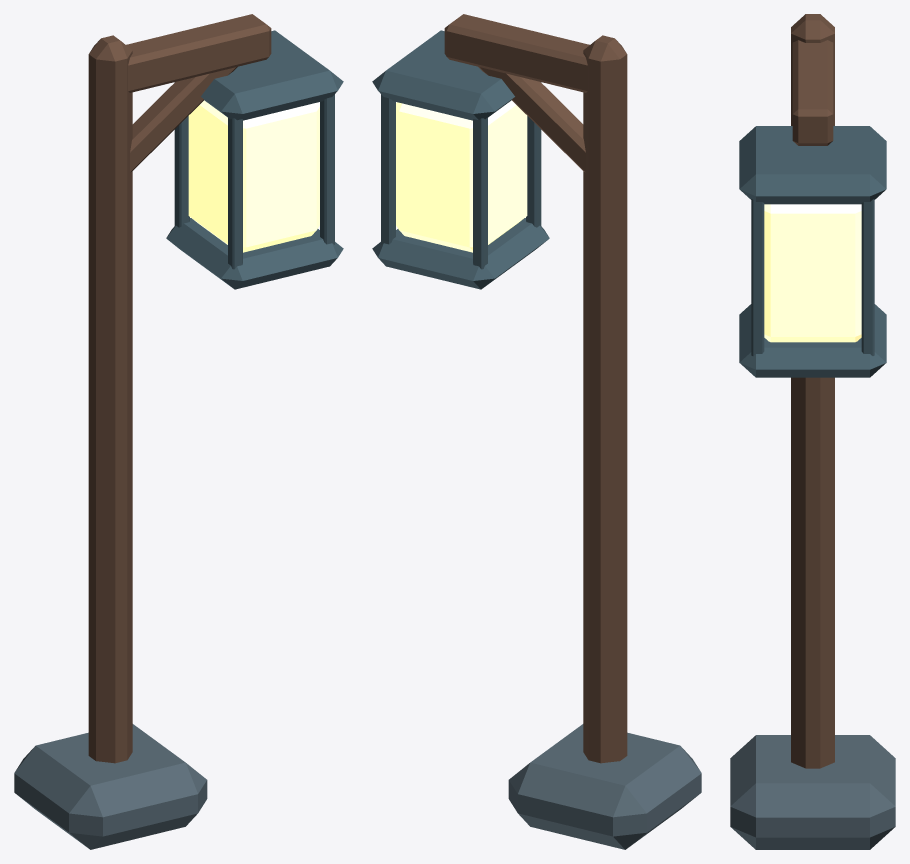
File: lamp.glb
The picture shows the model from 3 angles, left to right: view 1: azimuth 30°, elevation 25°; view 2: azimuth 150°, elevation 25°; view 3: azimuth 270°, elevation 25°; orthographic projection. The views are drawn at different scales.
Parts seen in each view (by area): view 1: lamp-post, lamp-base, lantern, lamp-arm, lantern-cap.001, lantern-cap, lamp-brace, lantern-frame, lantern-frame.002, lantern-frame.001; view 2: lamp-post, lamp-base, lantern, lamp-arm, lantern-cap.001, lantern-cap, lamp-brace, lantern-frame.001, lantern-frame.003, lantern-frame; view 3: lamp-post, lamp-base, lantern, lantern-cap.001, lantern-cap, lamp-arm, lantern-frame.002, lantern-frame.003.
Part boxes in pixels (x1,y1,x2,y2): lamp-post: (88,35,132,763); lamp-base: (14,724,207,849); lantern: (188,100,319,252); lamp-arm: (126,14,271,92); lantern-cap.001: (201,30,343,120); lantern-cap: (166,218,343,289); lamp-brace: (130,66,237,172); lantern-frame: (228,117,242,269); lantern-frame.002: (320,94,334,244); lantern-frame.001: (174,82,189,227); lamp-post: (583,35,627,763); lamp-base: (508,724,701,849); lantern: (396,100,527,252); lamp-arm: (444,14,589,92); lantern-cap.001: (372,30,514,120); lantern-cap: (372,218,549,289); lamp-brace: (478,66,585,172); lantern-frame.001: (473,117,487,269); lantern-frame.003: (381,94,395,244); lantern-frame: (526,82,541,227); lamp-post: (791,14,834,768); lamp-base: (730,735,895,849); lantern: (764,204,861,342); lantern-cap.001: (739,126,886,204); lantern-cap: (739,304,886,377); lamp-arm: (792,40,833,145); lantern-frame.002: (751,199,764,355); lantern-frame.003: (861,199,874,355).
Size of the model in its own units: 0.895 by 2.42 by 0.45.
